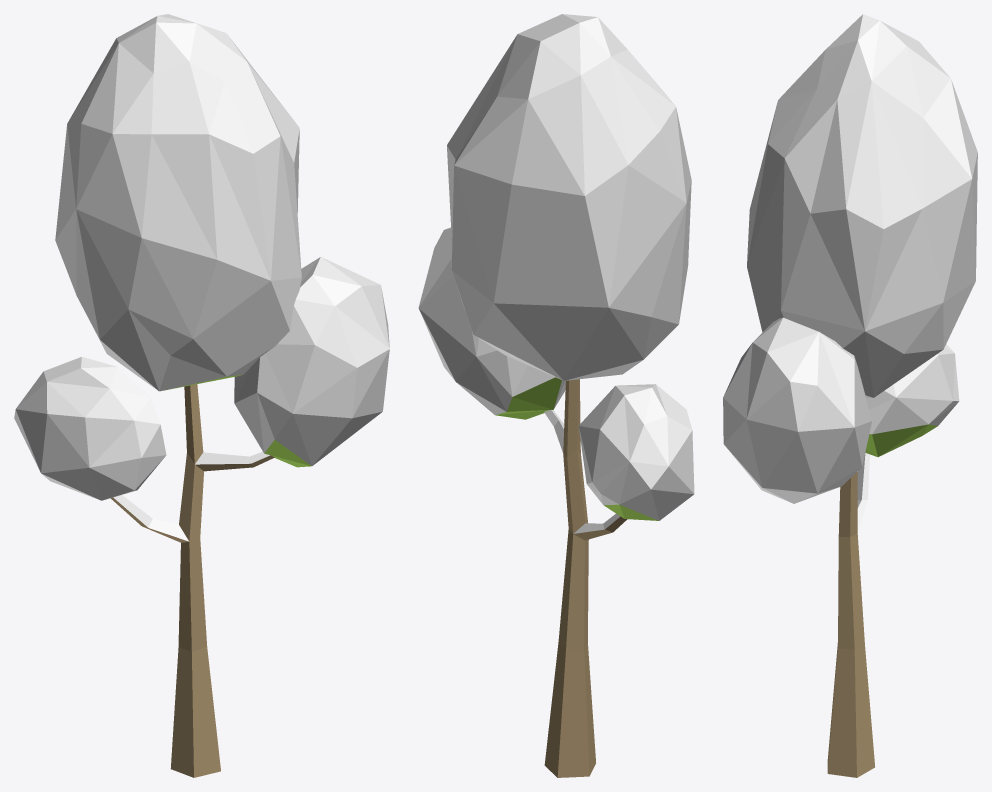
Rendered from Random_Tree_m_Snow_09_LOD.fbx.
The picture shows the model from 3 angles, left to right: view 1: azimuth 30°, elevation 25°; view 2: azimuth 150°, elevation 25°; view 3: azimuth 270°, elevation 25°; orthographic projection. The views are drawn at different scales.
Parts seen in each view (by area): view 1: Random_Tree_m_Snow_09_LOD0; view 2: Random_Tree_m_Snow_09_LOD0; view 3: Random_Tree_m_Snow_09_LOD0.
Boxes of the visible parts, bbox=[...] form: Random_Tree_m_Snow_09_LOD0: bbox=[14, 14, 389, 777]; Random_Tree_m_Snow_09_LOD0: bbox=[418, 14, 694, 777]; Random_Tree_m_Snow_09_LOD0: bbox=[723, 14, 977, 777].
Size of what is drawn, in the model's own units: 398 by 936 by 293.
